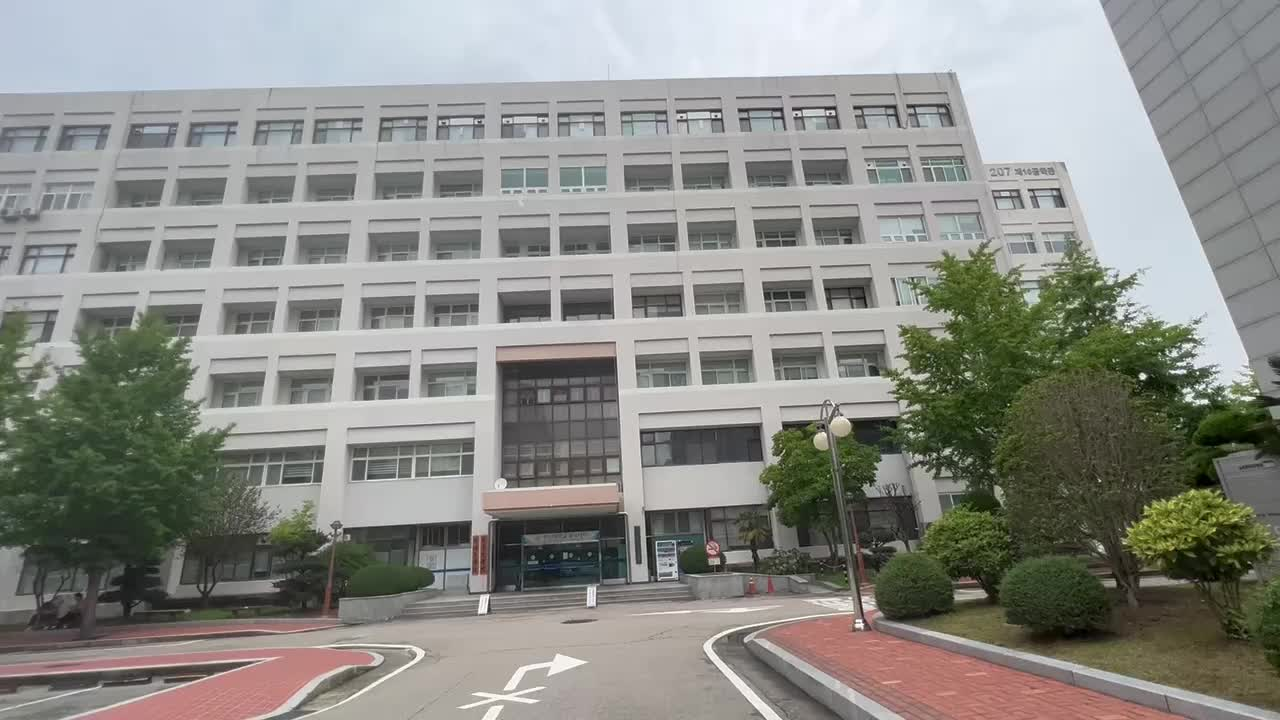low: (377, 70, 786, 620)
